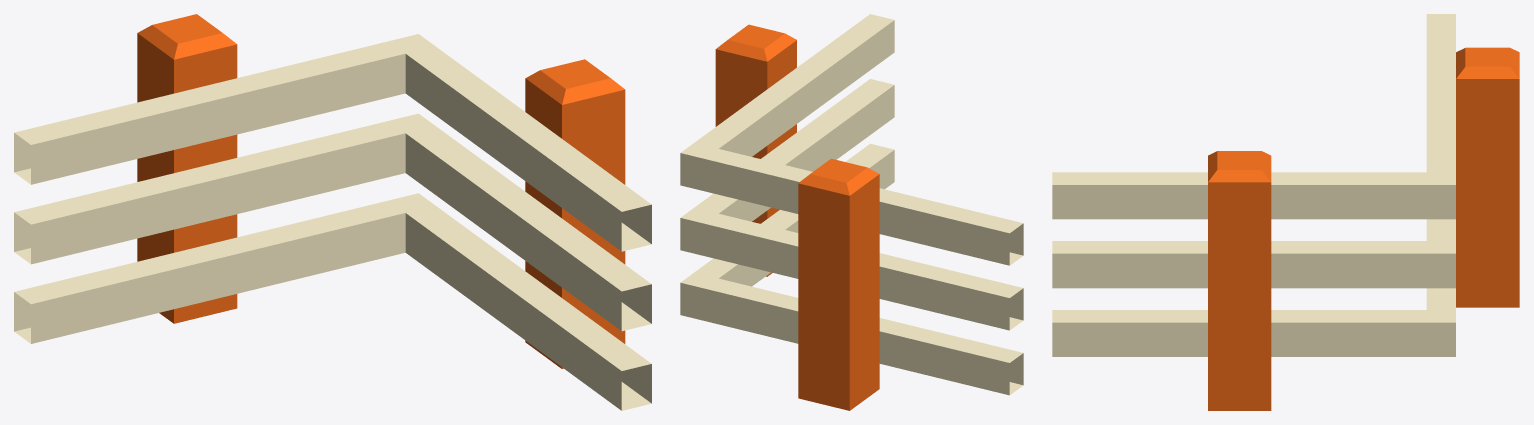
Rendered from Farm_Fence_E_02.fbx.
3 renders of one model, left to right at view 1: azimuth 30°, elevation 25°; view 2: azimuth 150°, elevation 25°; view 3: azimuth 270°, elevation 25°, orthographic. The views are drawn at different scales.
Parts seen in each view (by area): view 1: Farm_Fence_E_02; view 2: Farm_Fence_E_02; view 3: Farm_Fence_E_02.
Boxes of the visible parts, bbox=[...] form: Farm_Fence_E_02: bbox=[14, 14, 651, 410]; Farm_Fence_E_02: bbox=[680, 14, 1023, 410]; Farm_Fence_E_02: bbox=[1052, 14, 1519, 410].
Size of the model in its own units: 200 by 112 by 200.
